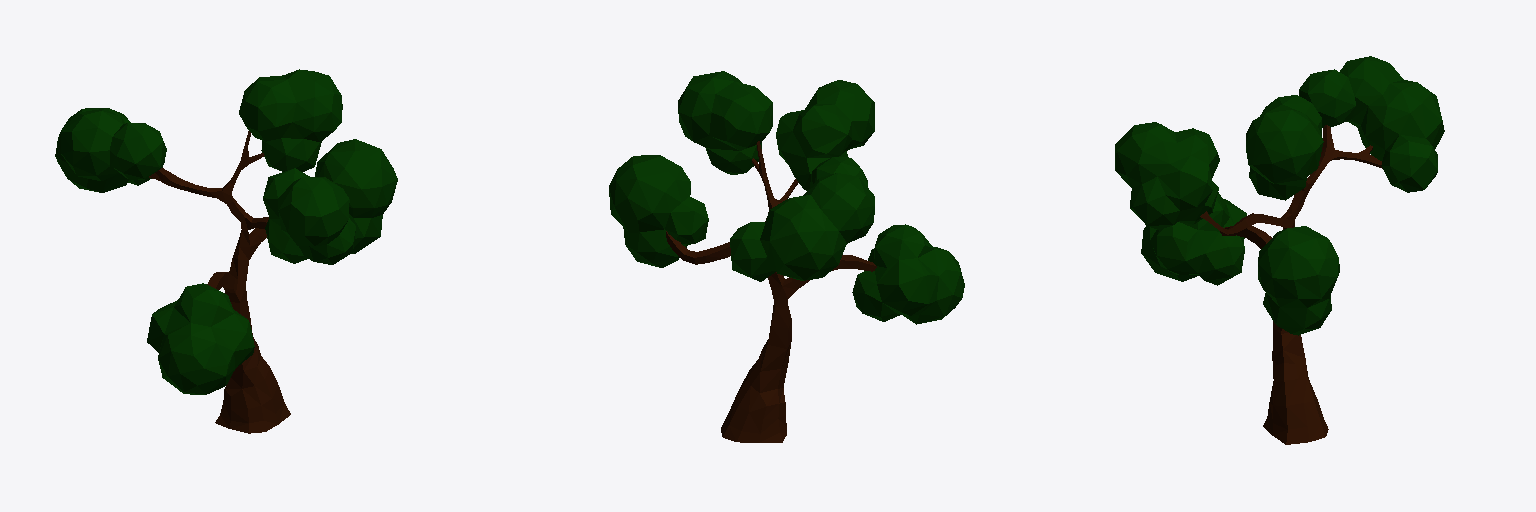
The model's file is tree.obj.
3 renders of one model, left to right at view 1: azimuth 30°, elevation 25°; view 2: azimuth 150°, elevation 25°; view 3: azimuth 270°, elevation 25°, orthographic.
Visible parts, largest first — view 1: LowPoly_Tree_04_lowpoly_tree_05_Mesh.001; view 2: LowPoly_Tree_04_lowpoly_tree_05_Mesh.001; view 3: LowPoly_Tree_04_lowpoly_tree_05_Mesh.001.
Boxes of the visible parts, <box> form: LowPoly_Tree_04_lowpoly_tree_05_Mesh.001: <box>55,69,397,433</box>; LowPoly_Tree_04_lowpoly_tree_05_Mesh.001: <box>609,71,964,442</box>; LowPoly_Tree_04_lowpoly_tree_05_Mesh.001: <box>1115,56,1444,444</box>.
Size of the model in its own units: 3.63 by 4.08 by 3.58.